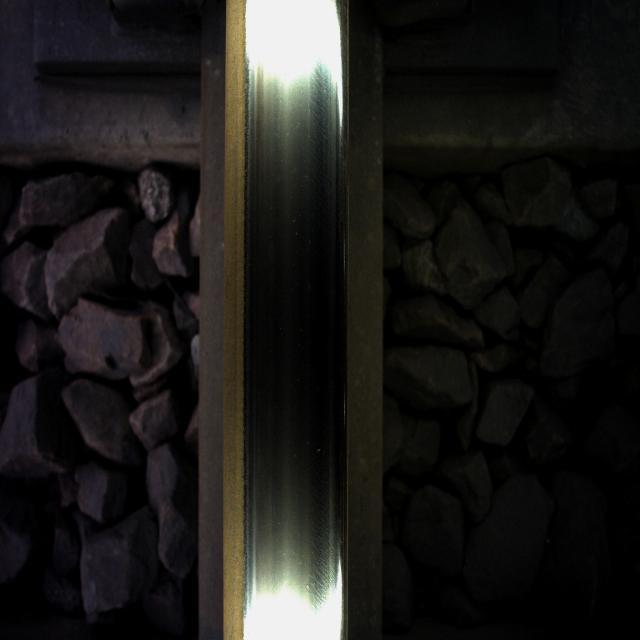break: (250, 42, 334, 508)
